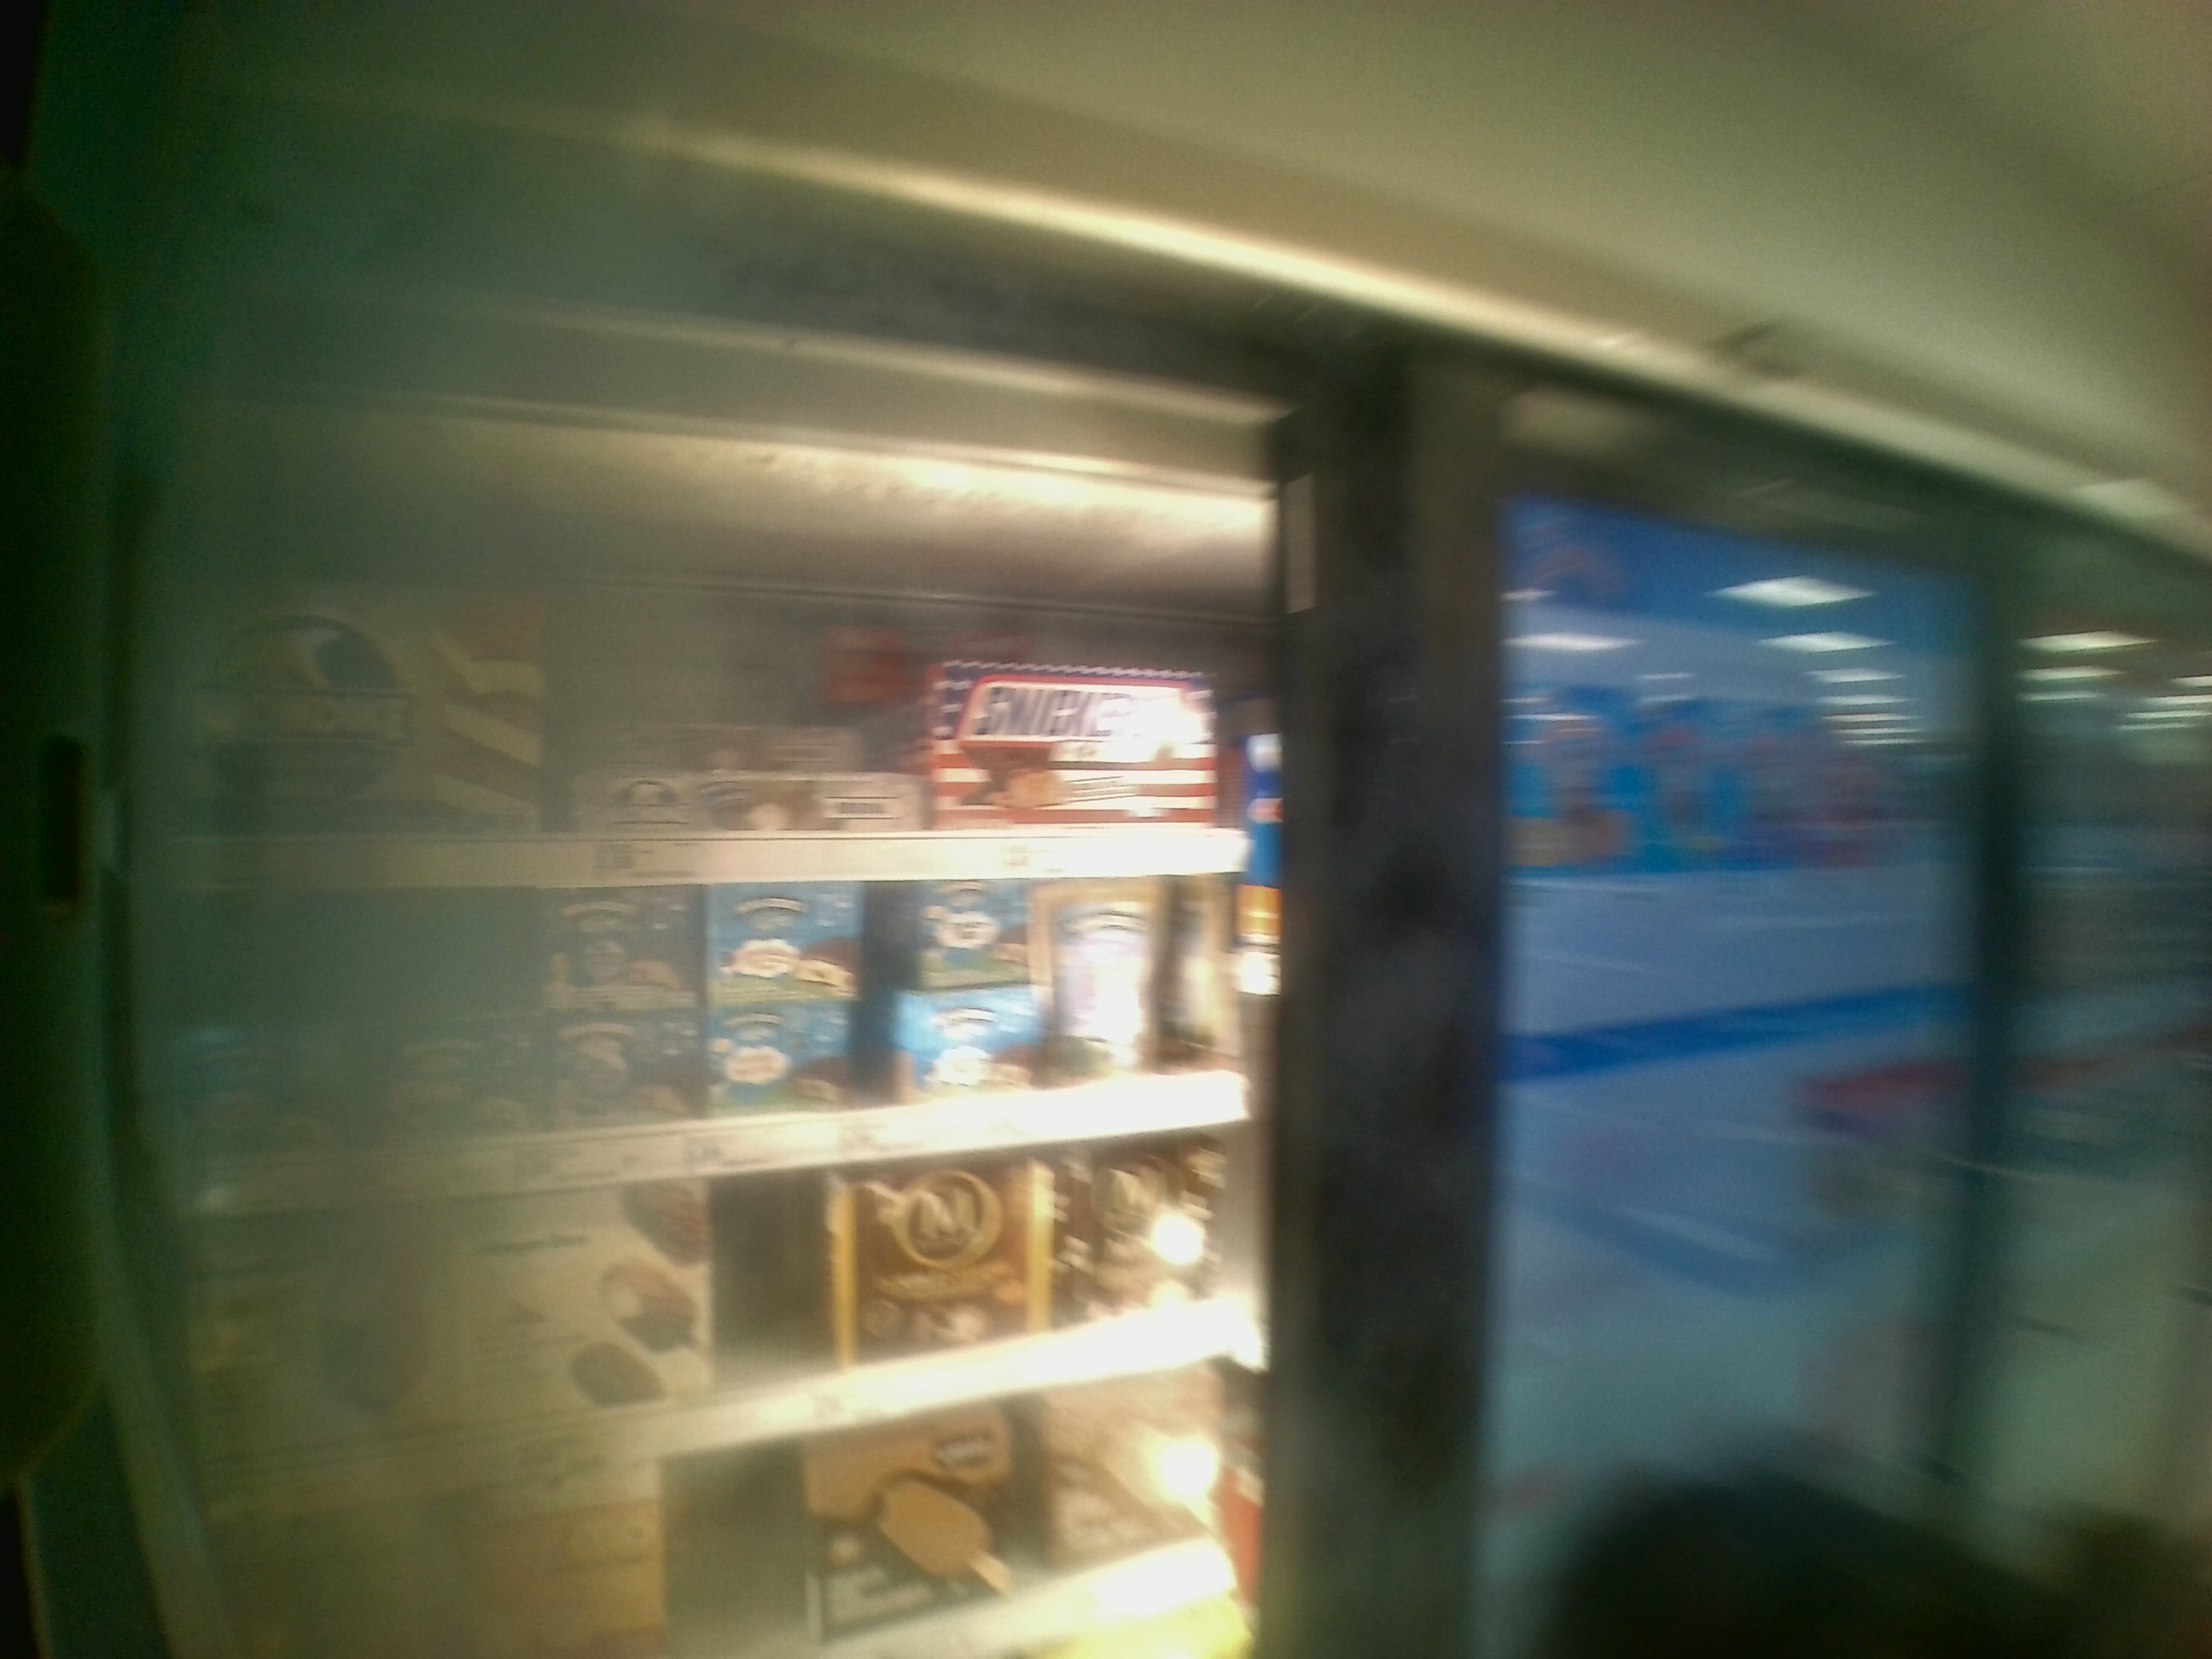shelf: (179, 483, 1268, 887), (183, 884, 1275, 1223)
